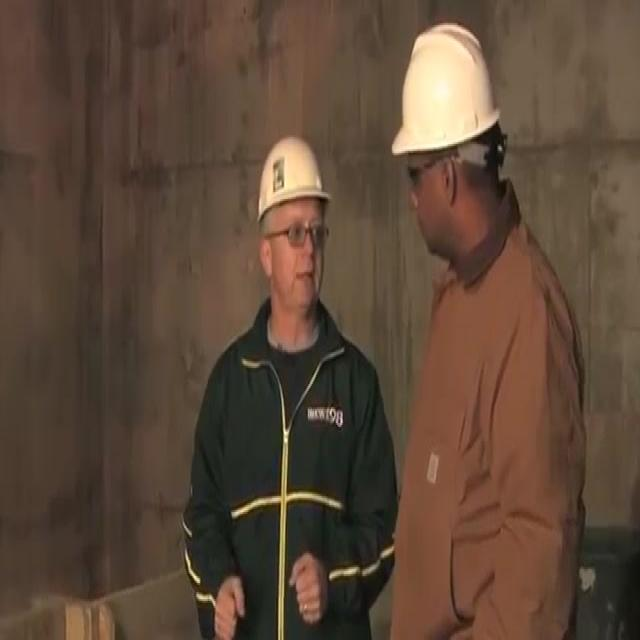Safety-Helmet: (382, 16, 513, 187), (246, 121, 342, 243)
